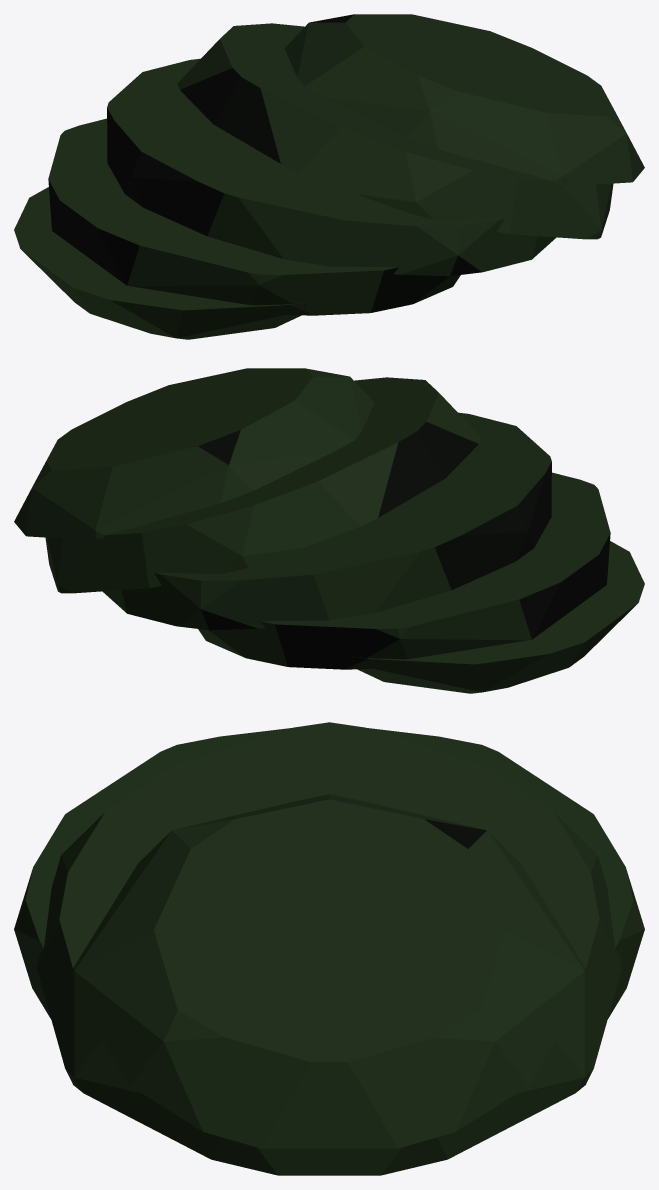
The model's file is LettuceChoppedBurnt.glb.
The picture shows the model from 3 angles, top to bottom: view 1: azimuth 30°, elevation 25°; view 2: azimuth 150°, elevation 25°; view 3: azimuth 270°, elevation 25°; orthographic projection. The views are drawn at different scales.
Visible parts, largest first — view 1: Icosphere.017; view 2: Icosphere.017; view 3: Icosphere.017.
Boxes of the visible parts, x1=… form: Icosphere.017: x1=14, y1=14, x2=644, y2=339; Icosphere.017: x1=14, y1=368, x2=644, y2=693; Icosphere.017: x1=14, y1=722, x2=644, y2=1175.
Size of the model in its own units: 0.5295 by 0.1728 by 0.394.
